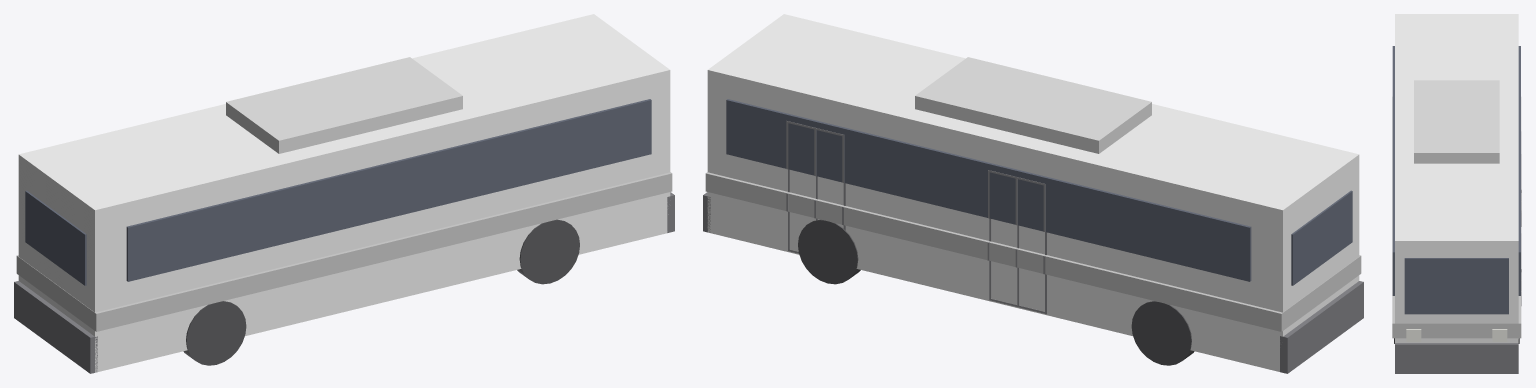
Rendered from bus.glb.
3 views of the same model, side by side, from view 1: azimuth 30°, elevation 25°; view 2: azimuth 150°, elevation 25°; view 3: azimuth 270°, elevation 25° (orthographic). The views are drawn at different scales.
Visible parts, largest first — view 1: body, windows, stripe, roof_unit, wheels, bumper_r, rear_glass; view 2: body, windows, stripe, roof_unit, wheels, bumper_r, rear_glass, door_lines; view 3: body, roof_unit, windshield, bumper_f, stripe, windows, light_l, light_r, door_lines.
Boxes of the visible parts, x1,y1,x2,y2 form: body: [18, 14, 670, 372]; windows: [126, 99, 651, 281]; stripe: [16, 172, 672, 331]; roof_unit: [226, 57, 462, 153]; wheels: [183, 219, 579, 365]; bumper_r: [14, 281, 97, 373]; rear_glass: [25, 190, 86, 285]; body: [707, 14, 1359, 371]; windows: [726, 99, 1251, 281]; stripe: [705, 172, 1361, 331]; roof_unit: [915, 57, 1151, 153]; wheels: [798, 219, 1194, 365]; bumper_r: [1280, 281, 1363, 373]; rear_glass: [1291, 190, 1352, 285]; door_lines: [786, 121, 1046, 314]; body: [1395, 14, 1518, 342]; roof_unit: [1414, 80, 1499, 163]; windshield: [1404, 258, 1508, 314]; bumper_f: [1395, 343, 1518, 373]; stripe: [1392, 97, 1521, 338]; windows: [1392, 46, 1520, 295]; light_l: [1492, 329, 1507, 341]; light_r: [1406, 329, 1421, 341]; door_lines: [1518, 131, 1521, 338].
Size of the model in its own units: 10.16 by 3.27 by 2.41.
